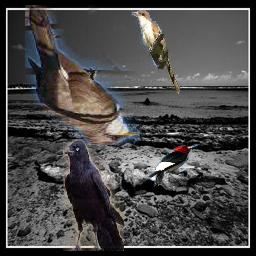Crow: (64, 139, 125, 251)
Cuckoo: (26, 5, 141, 145), (132, 10, 181, 94)
Woodpecker: (146, 145, 198, 188)
